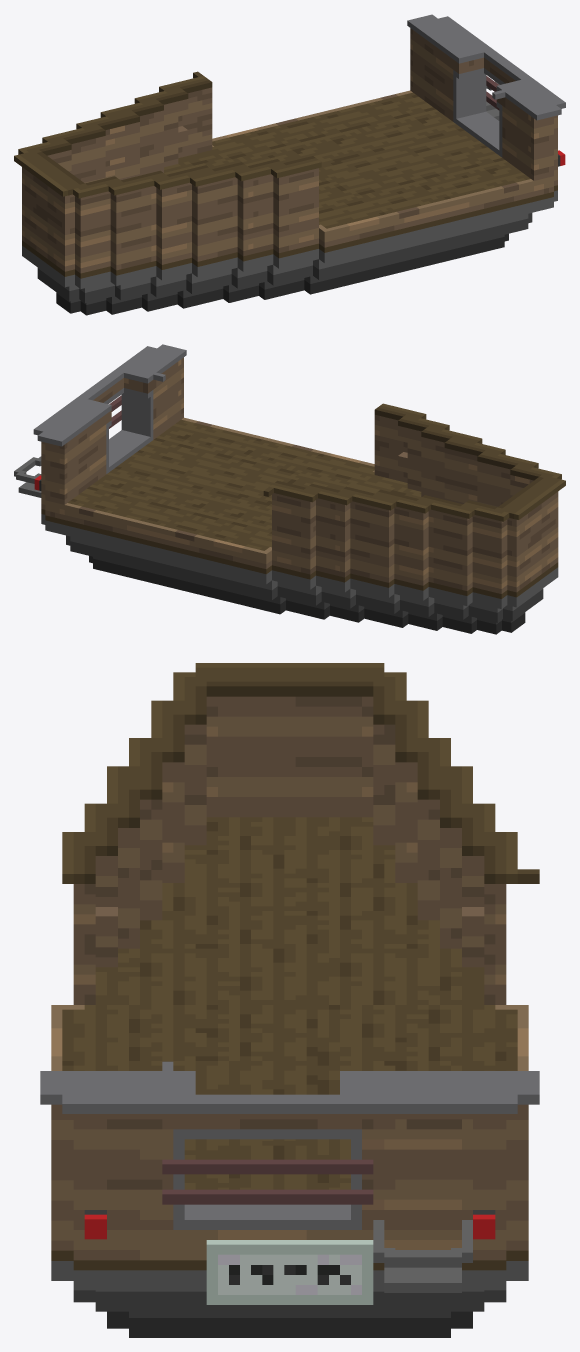
File: Boat_Booth-24-Boat_Base.obj
3 views of the same model, one above another, from view 1: azimuth 30°, elevation 25°; view 2: azimuth 150°, elevation 25°; view 3: azimuth 270°, elevation 25° (orthographic). The views are drawn at different scales.
Parts seen in each view (by area): view 1: Boat_Base; view 2: Boat_Base; view 3: Boat_Base.
Part boxes in pixels (x1,y1,x2,y2): Boat_Base: (14,14,565,315); Boat_Base: (14,344,565,634); Boat_Base: (40,663,539,1337).
Bounding box in the file's own units: 2.02 × 0.54 × 0.9.
1 material, 1 textured.
